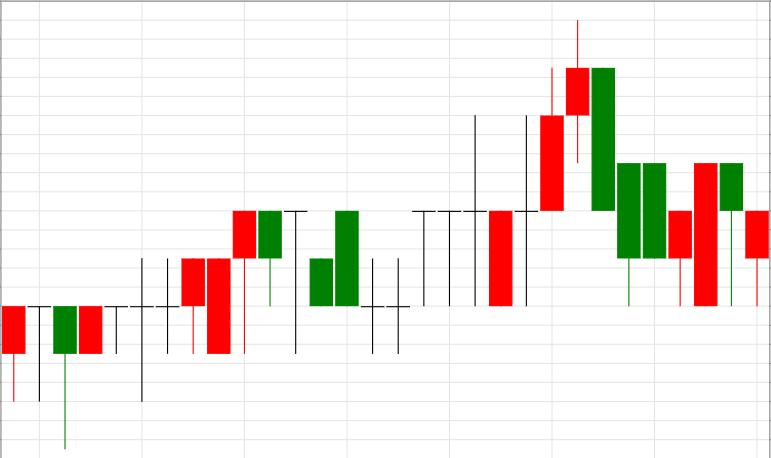hanging_man_fall: (79, 211, 256, 402)
